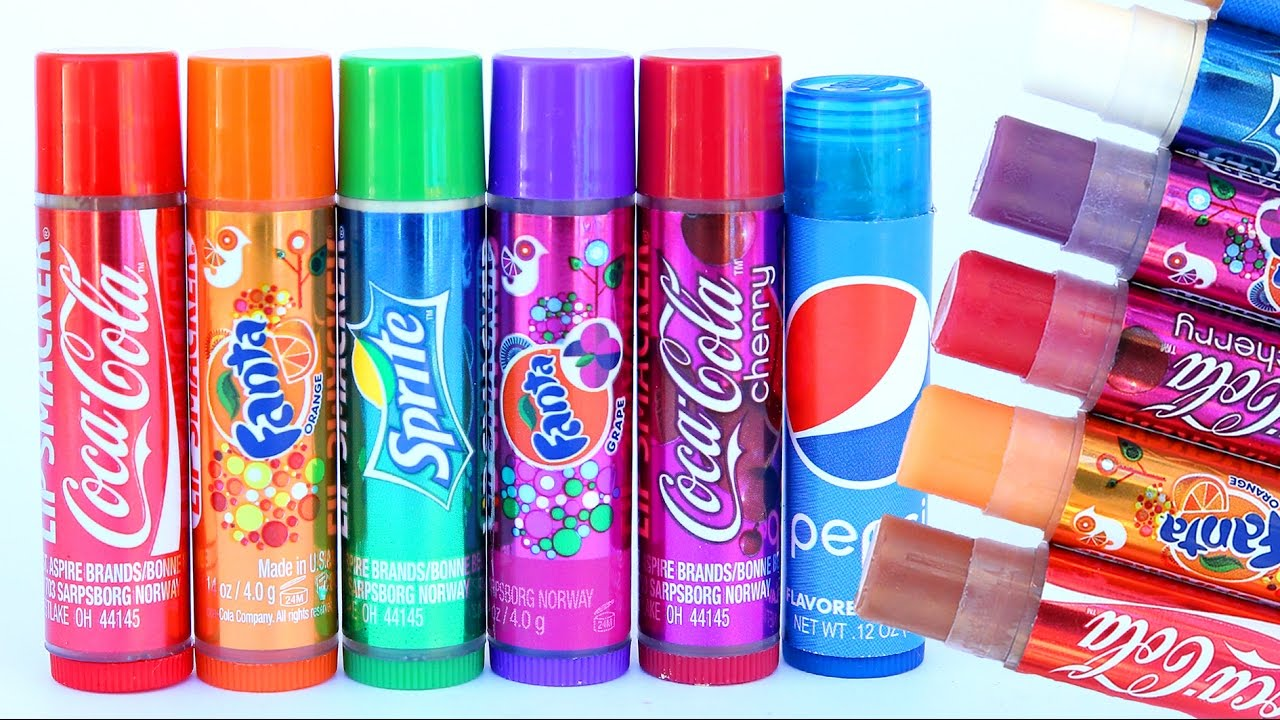pepsi: (787, 277, 941, 492), (787, 277, 932, 492)
